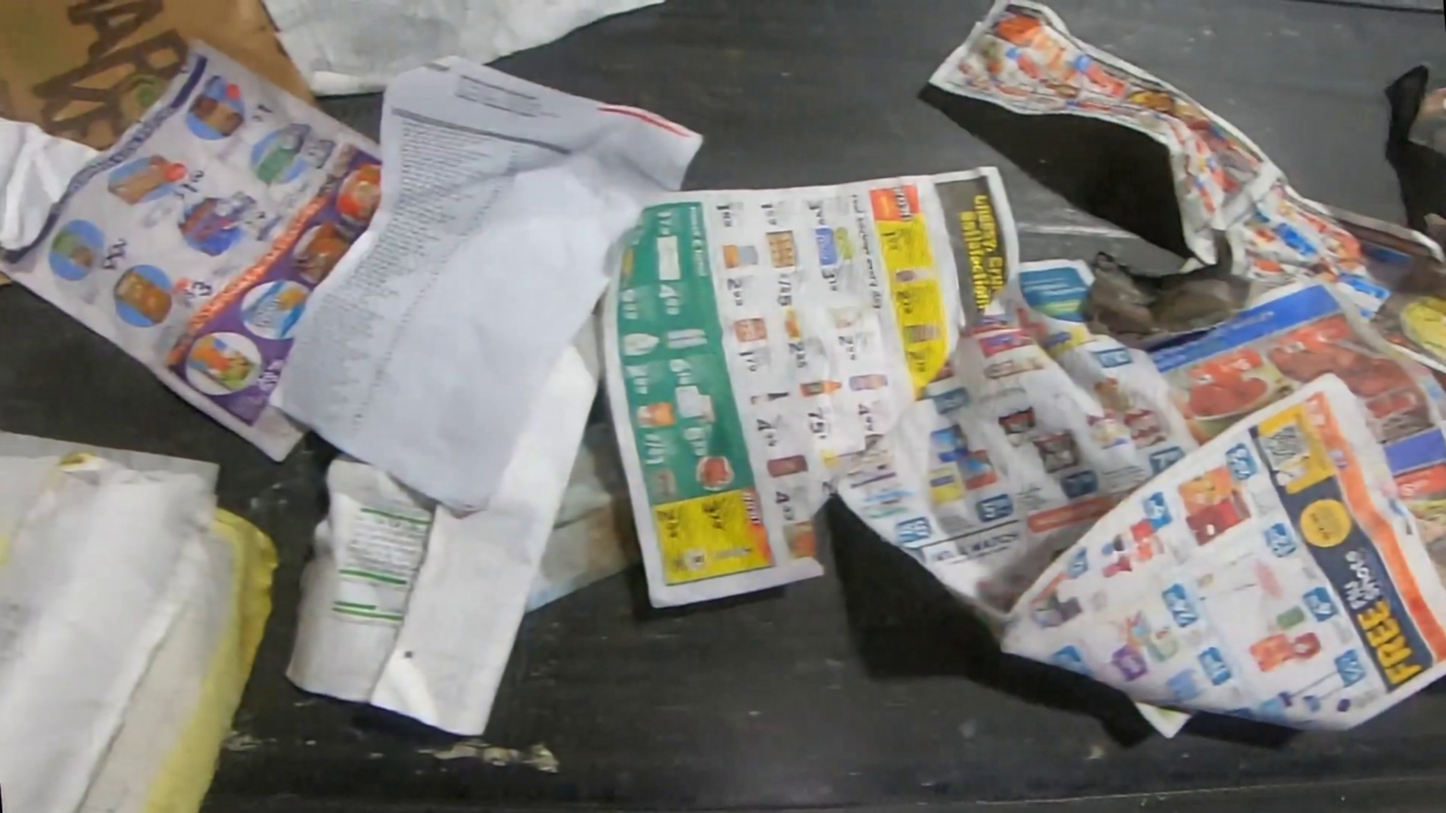cardboard: (1, 0, 322, 156)
